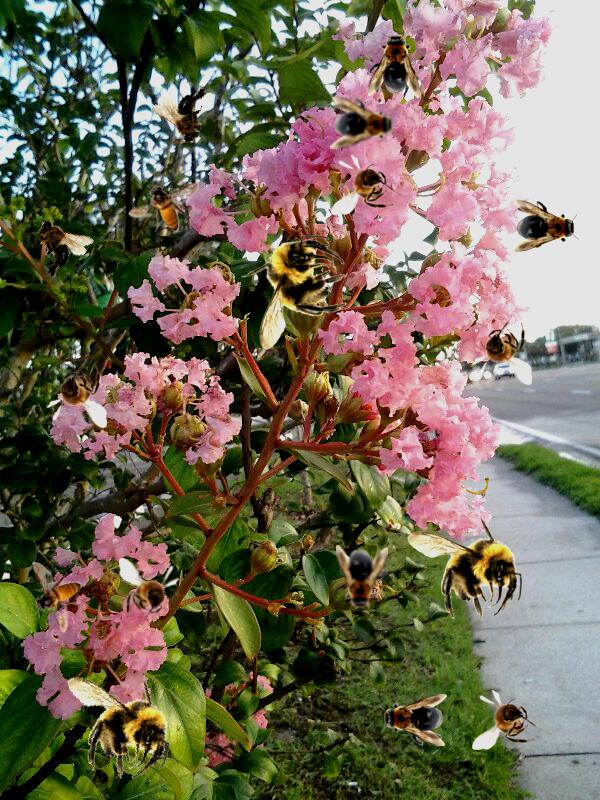Bee: (47, 656, 186, 789), (241, 235, 348, 350), (407, 513, 522, 620), (14, 204, 97, 286), (150, 81, 227, 153), (119, 558, 180, 628), (331, 154, 401, 215), (471, 315, 532, 385), (472, 689, 542, 750), (46, 358, 107, 428), (128, 182, 199, 232), (32, 562, 82, 633), (512, 200, 580, 252), (336, 545, 388, 613), (368, 30, 420, 98), (330, 97, 398, 149), (379, 694, 447, 746)
